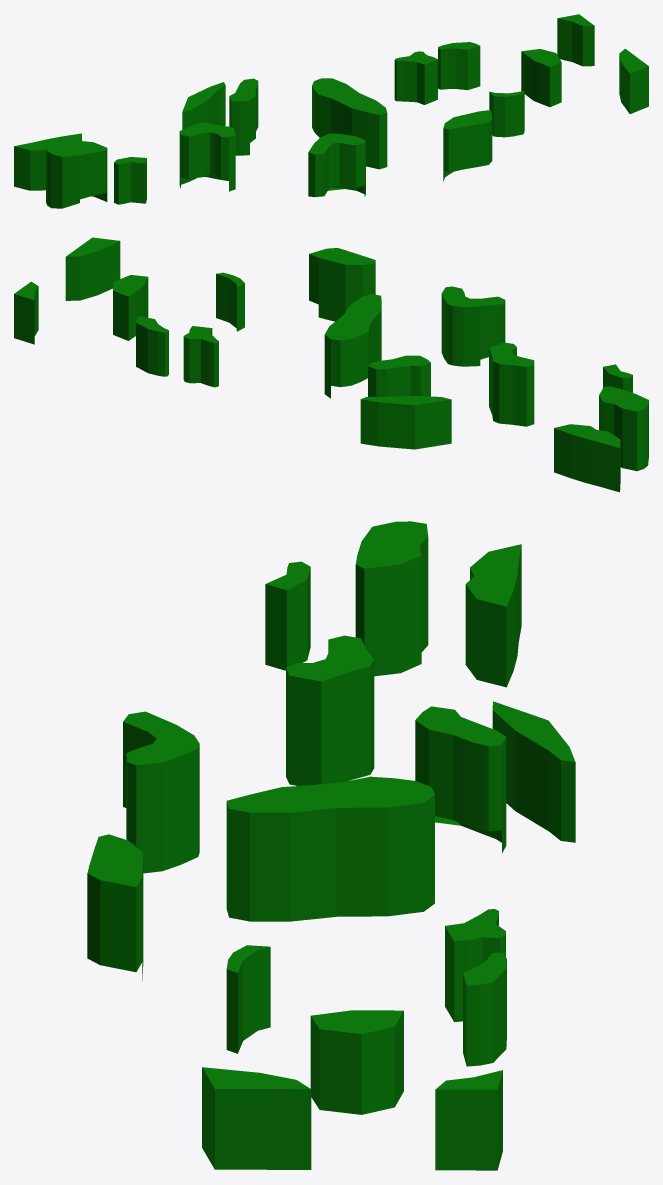
File: Terreno_0_Paredes.fbx
The picture shows the model from 3 angles, top to bottom: view 1: azimuth 30°, elevation 25°; view 2: azimuth 150°, elevation 25°; view 3: azimuth 270°, elevation 25°; orthographic projection. The views are drawn at different scales.
Visible parts, largest first — view 1: polySurface423; view 2: polySurface423; view 3: polySurface423.
Part boxes in pixels (bbox=[...]): polySurface423: bbox=[14, 14, 648, 208]; polySurface423: bbox=[14, 237, 648, 492]; polySurface423: bbox=[87, 521, 575, 1170].
Size of the model in its own units: 111 by 10.31 by 41.92.
